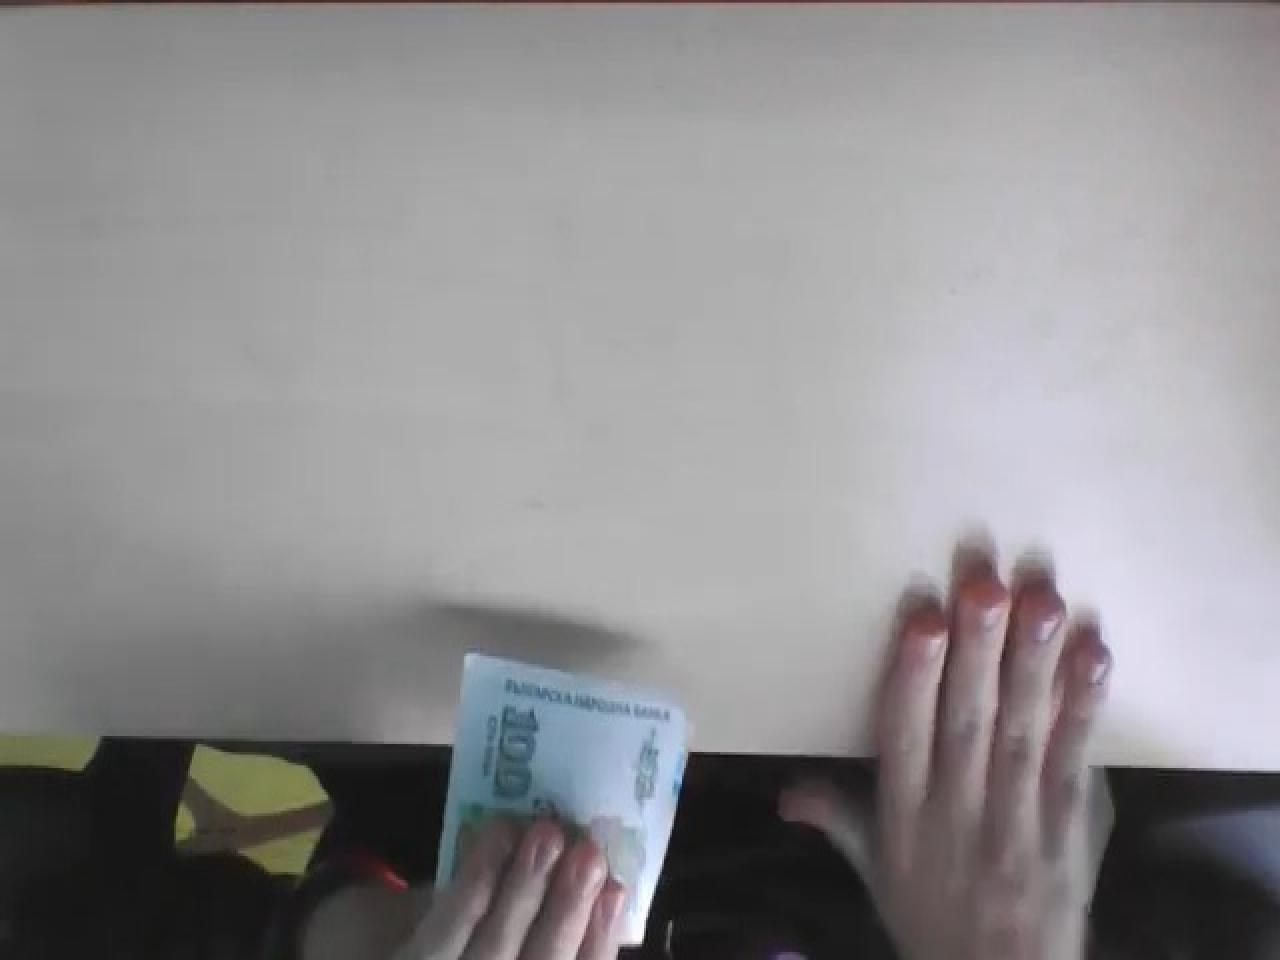100leva: (436, 650, 688, 960)
